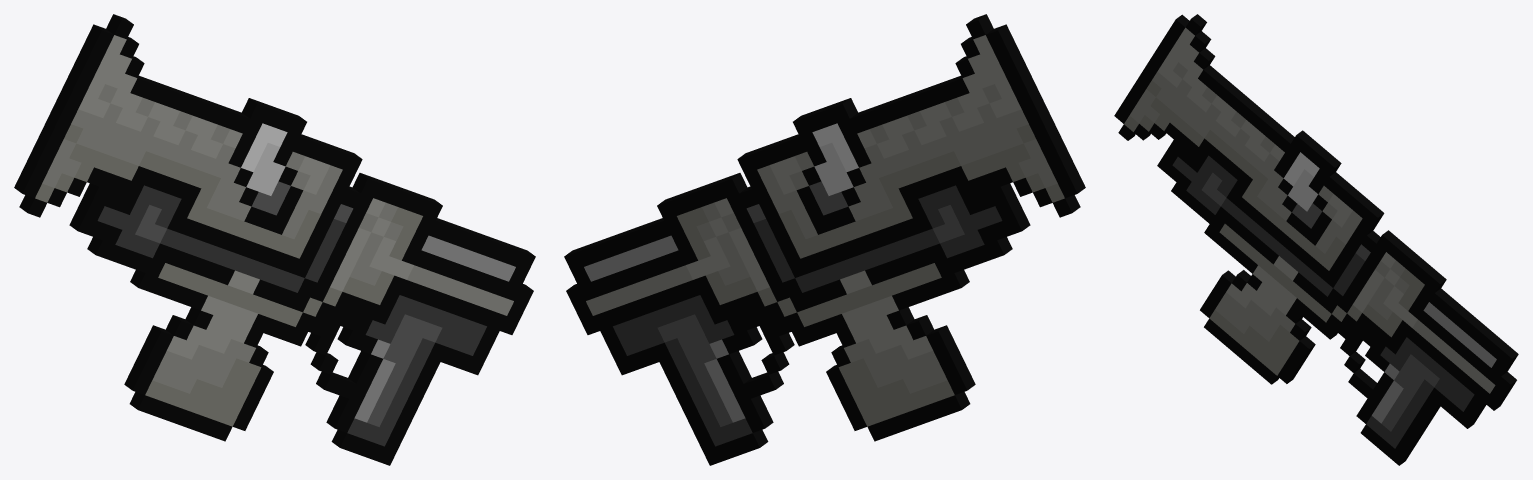
File: Light Grey Heavy Paintball Gun.glb
3 renders of one model, left to right at view 1: azimuth 30°, elevation 25°; view 2: azimuth 150°, elevation 25°; view 3: azimuth 330°, elevation 25°, orthographic. The views are drawn at different scales.
Visible parts, largest first — view 1: Untitled; view 2: Untitled; view 3: Untitled.
Part boxes in pixels (<box>): Untitled: <box>14,14,535,465</box>; Untitled: <box>564,14,1085,465</box>; Untitled: <box>1114,14,1518,465</box>.
Bounding box in the file's own units: 14.22 × 13.53 × 0.4.
1 material, 1 textured.
